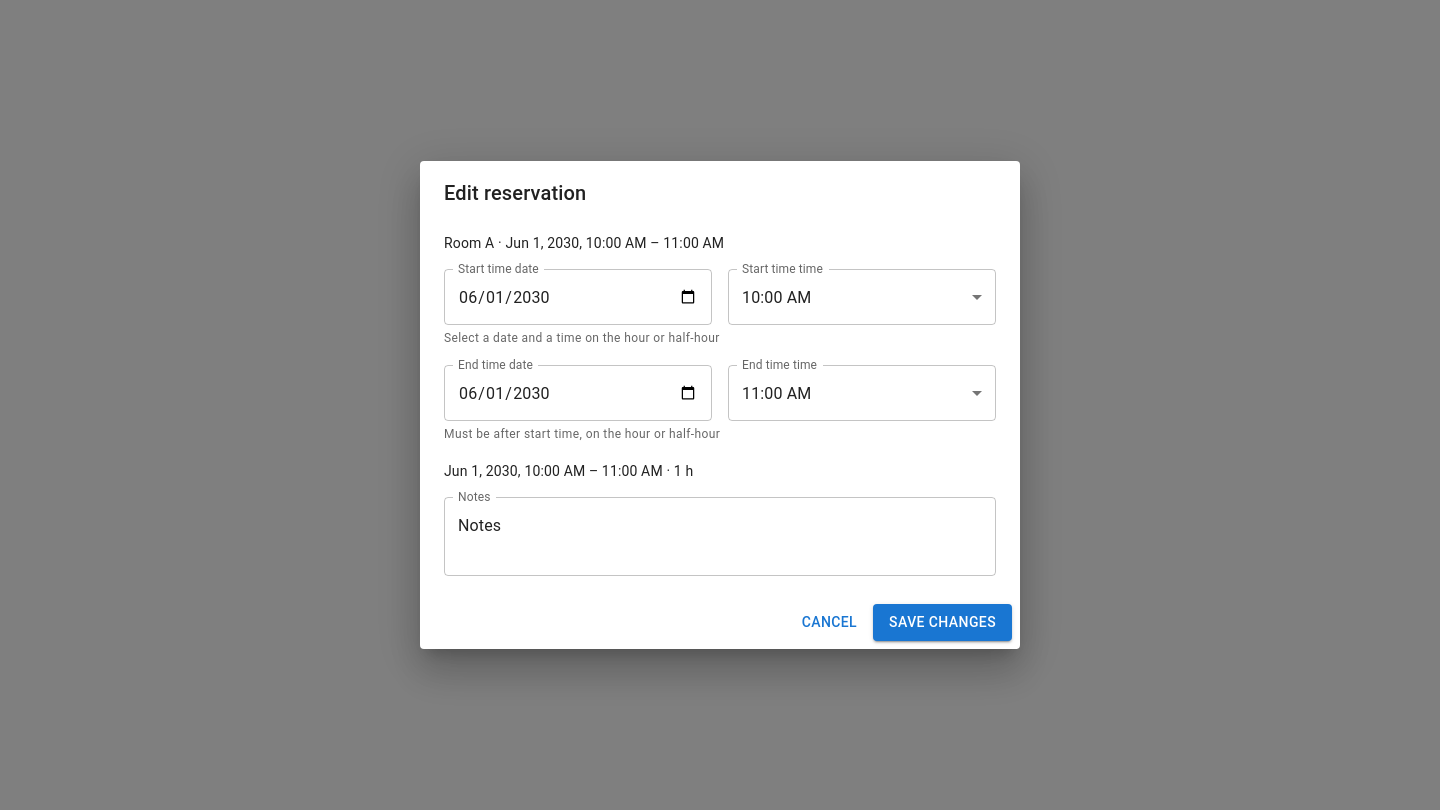
Test: ReservationEditDialog › shows error when end time is cleared
Clear the date field labelled "End time date" at [578, 393], box [444,365,712,421]
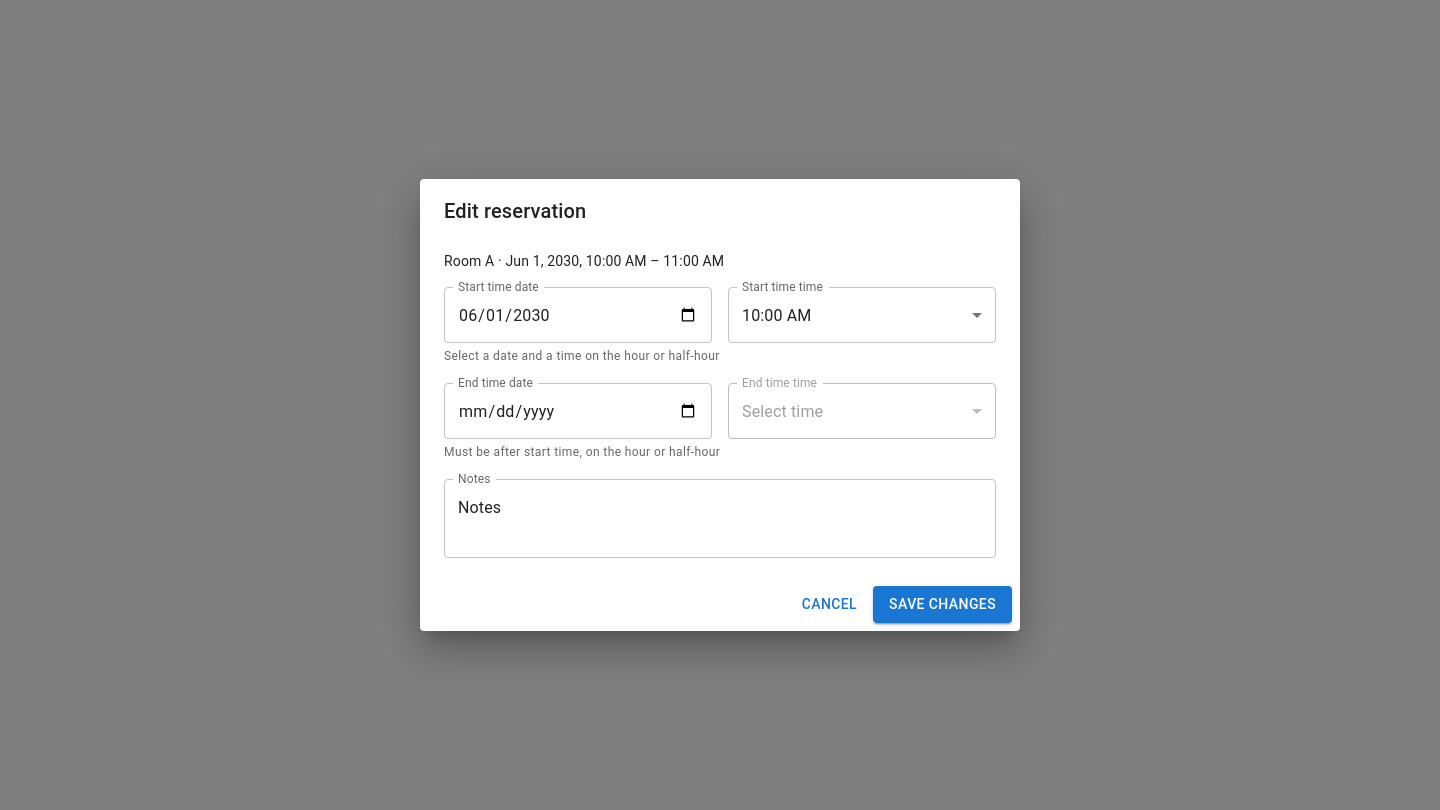
Click the button "Save changes" at [943, 604], box [873,586,1012,623]
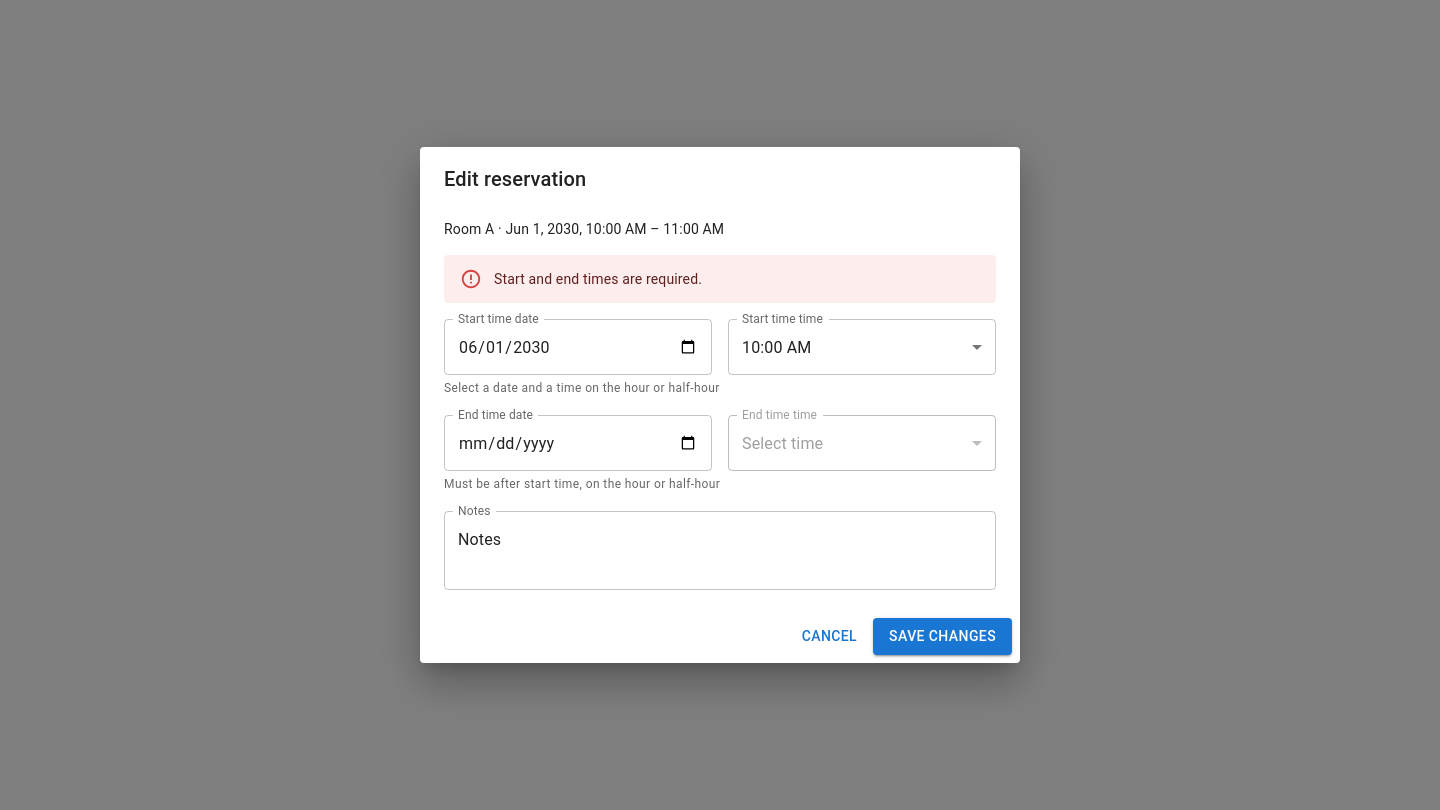
Result: the text "Start and end times are required." is shown at [494,271,702,287]
